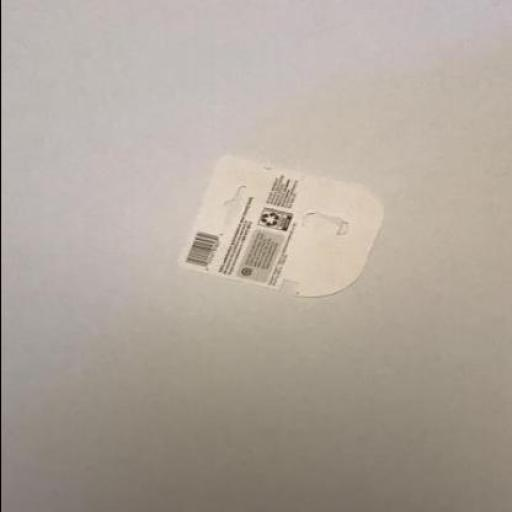paper: (176, 154, 384, 296)
